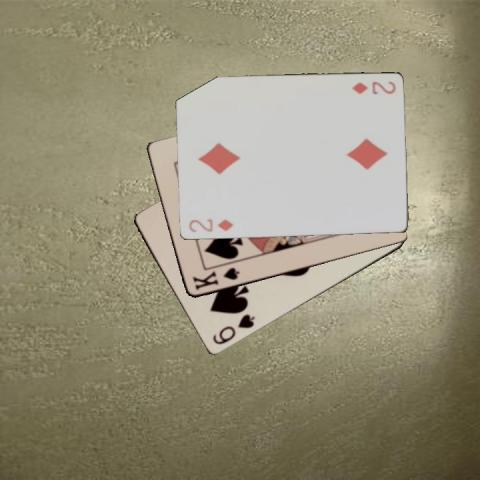2d: (185, 216, 235, 234), (349, 79, 397, 96)
6s: (209, 311, 256, 347)
Ks: (189, 265, 241, 291)
